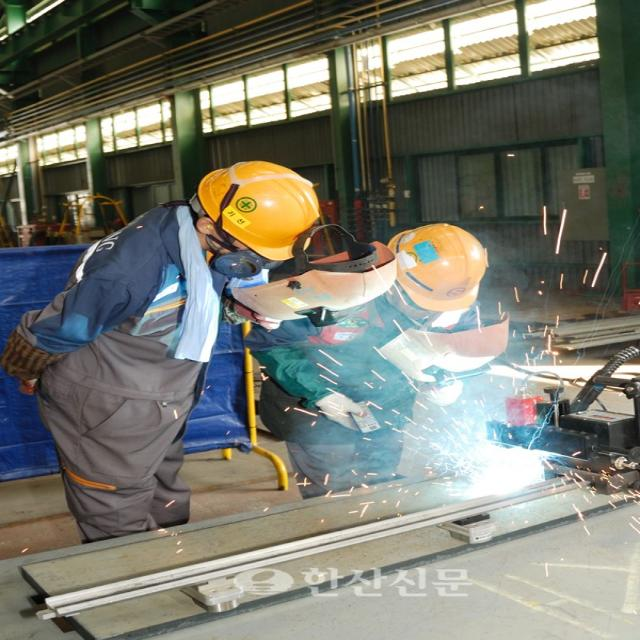welding: (463, 441, 550, 493)
